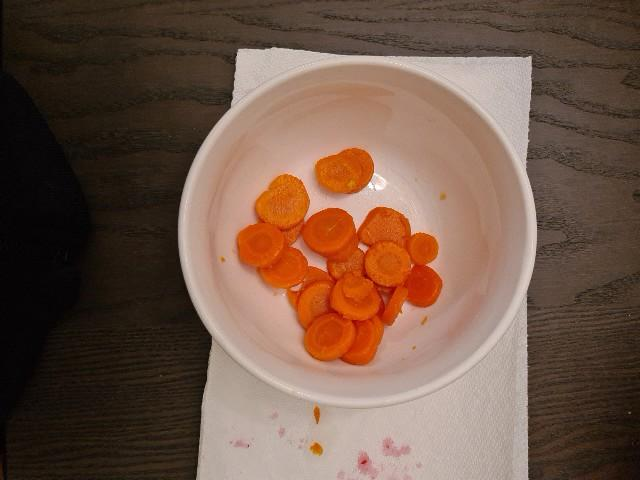kichen waste: (237, 148, 444, 365)
